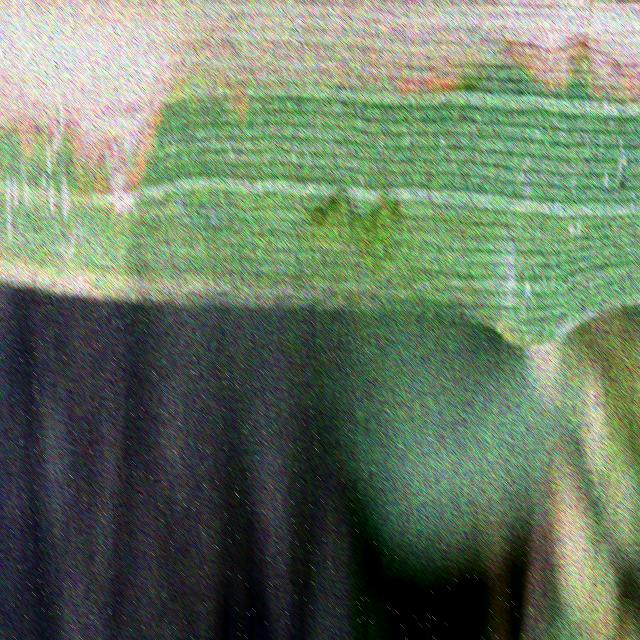BLB: (1, 0, 640, 198)
